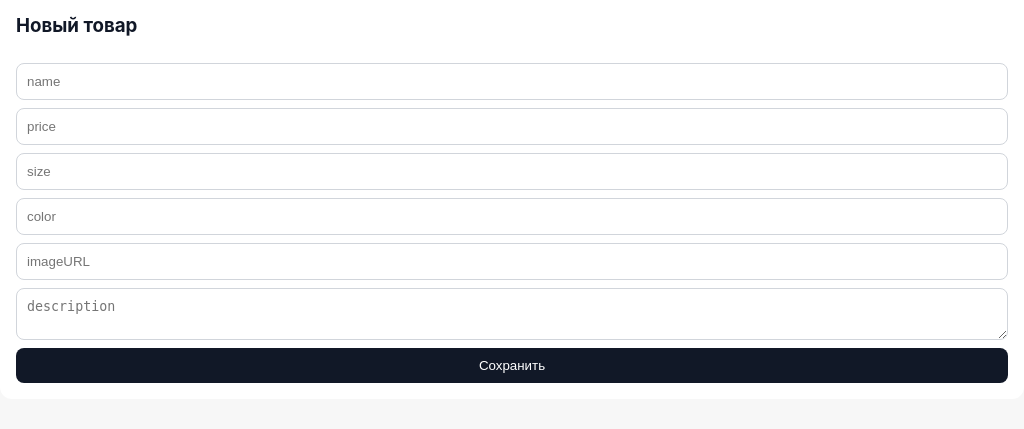
it: показывает ошибку если price <= 0
In the field with placeholder "name": {"x": 512, "y": 82} [16, 63, 1008, 100], type "Тест"
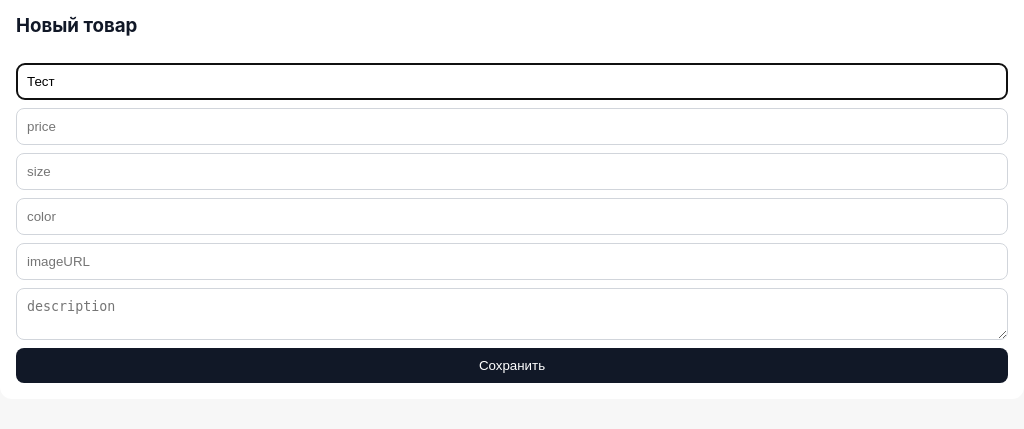
In the number field with placeholder "price": {"x": 512, "y": 127} [16, 108, 1008, 145], type "0"
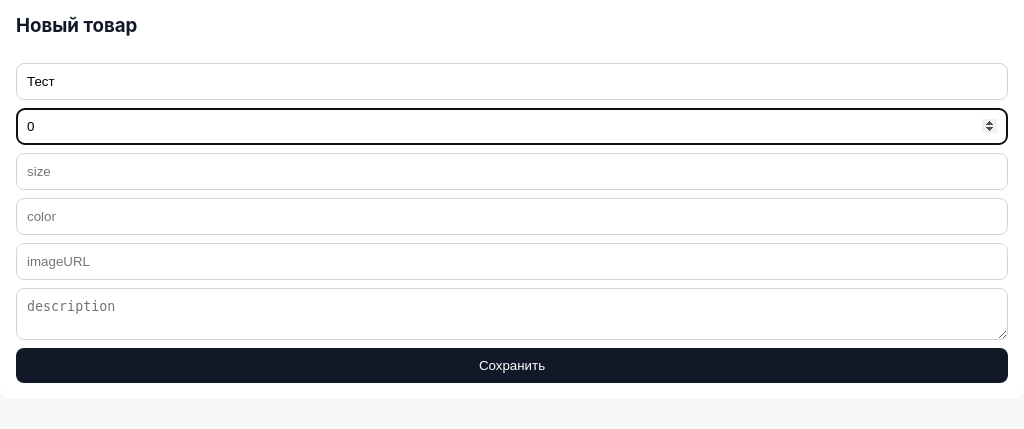
Click the button "Сохранить": {"x": 512, "y": 366} [16, 348, 1008, 383]
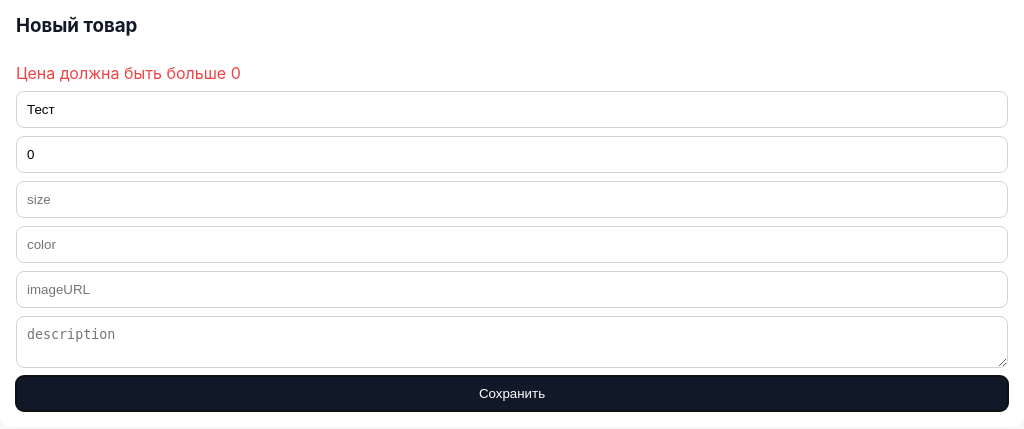
Expected: the text "Цена должна быть больше 0" is shown, [16, 63, 241, 83]
